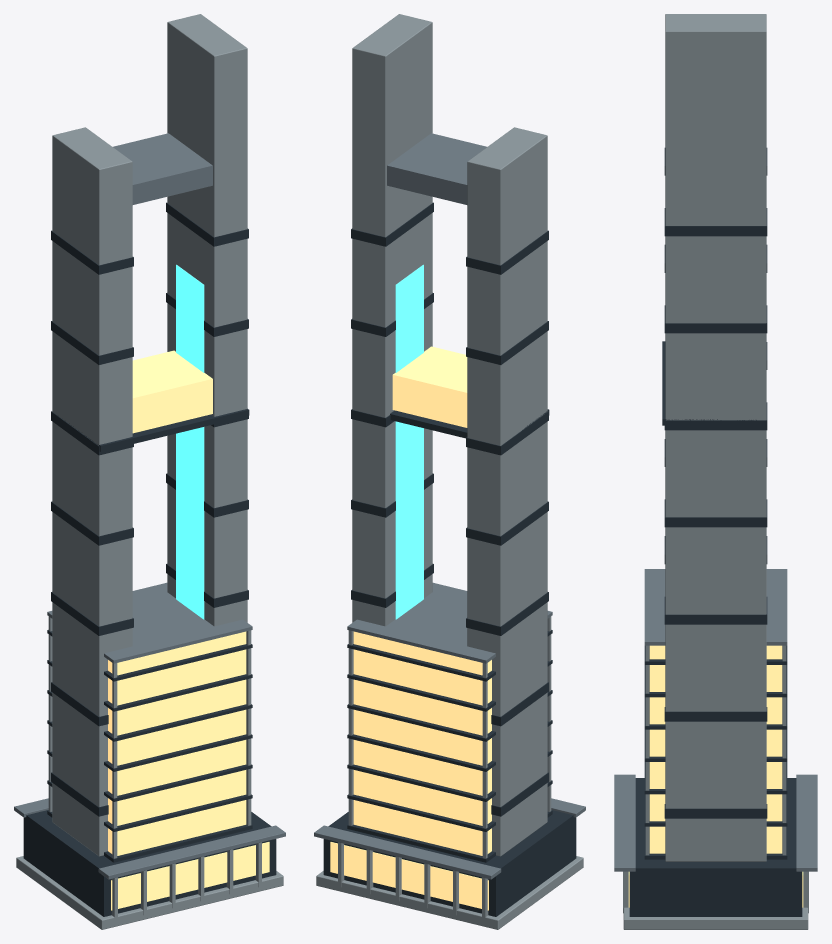
The model's file is vrx_city_landmark_a_LOD0.fbx.
The picture shows the model from 3 angles, left to right: view 1: azimuth 30°, elevation 25°; view 2: azimuth 150°, elevation 25°; view 3: azimuth 270°, elevation 25°; orthographic projection. The views are drawn at different scales.
Visible parts, largest first — view 1: vrx_city_landmark_a_LOD0; view 2: vrx_city_landmark_a_LOD0; view 3: vrx_city_landmark_a_LOD0.
Boxes of the visible parts, x1,y1,x2,y2 form: vrx_city_landmark_a_LOD0: (14, 14, 285, 929); vrx_city_landmark_a_LOD0: (314, 14, 585, 929); vrx_city_landmark_a_LOD0: (614, 14, 817, 929).
Size of the model in its own units: 38 by 165 by 34.2.
